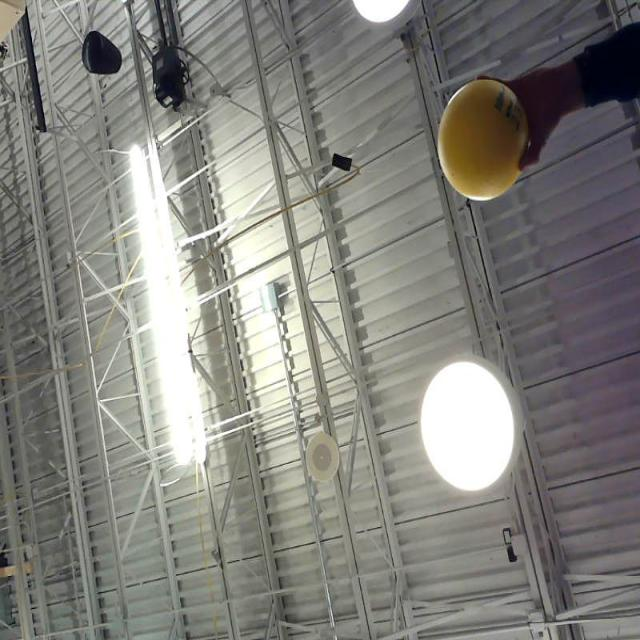Fuel: (437, 78, 529, 200)
